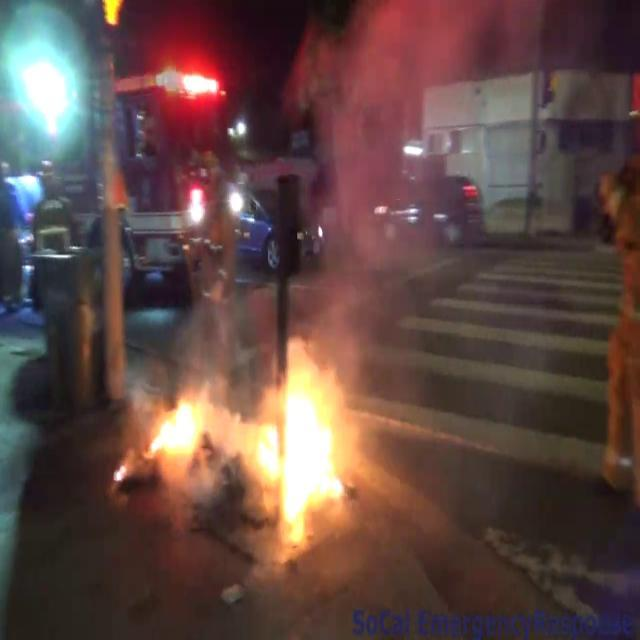Fire: (256, 352, 354, 530), (146, 386, 210, 468)
Smoke: (286, 0, 472, 329)
